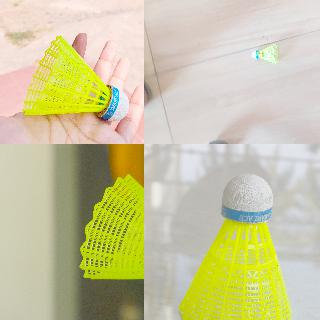shuttlecock: (178, 173, 292, 319), (23, 35, 128, 121), (80, 174, 143, 293), (250, 45, 280, 65)
